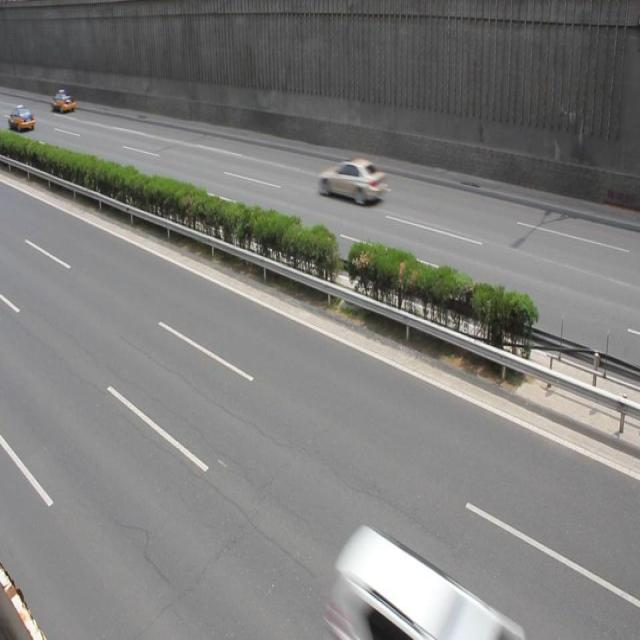car: (334, 525, 504, 640), (316, 158, 387, 202)
